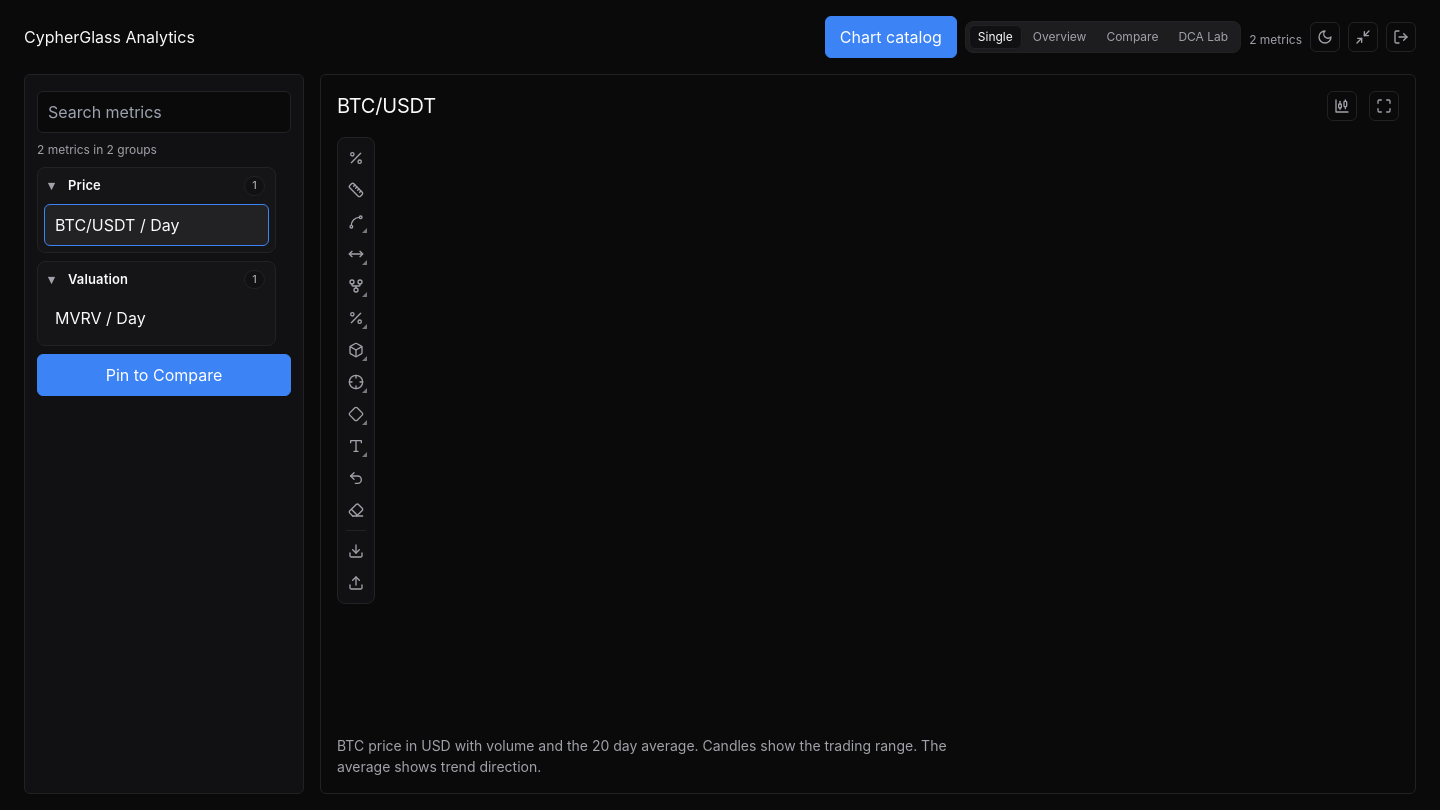
Scenario: Dashboard QFChart integration › price hero defaults to candles with a line-chart toggle
The width and height of the screenshot is (1440, 810).
Step 1. Click the button named "Switch to line chart" → (1342, 106), box top-left (1327, 91), bottom-right (1357, 121)
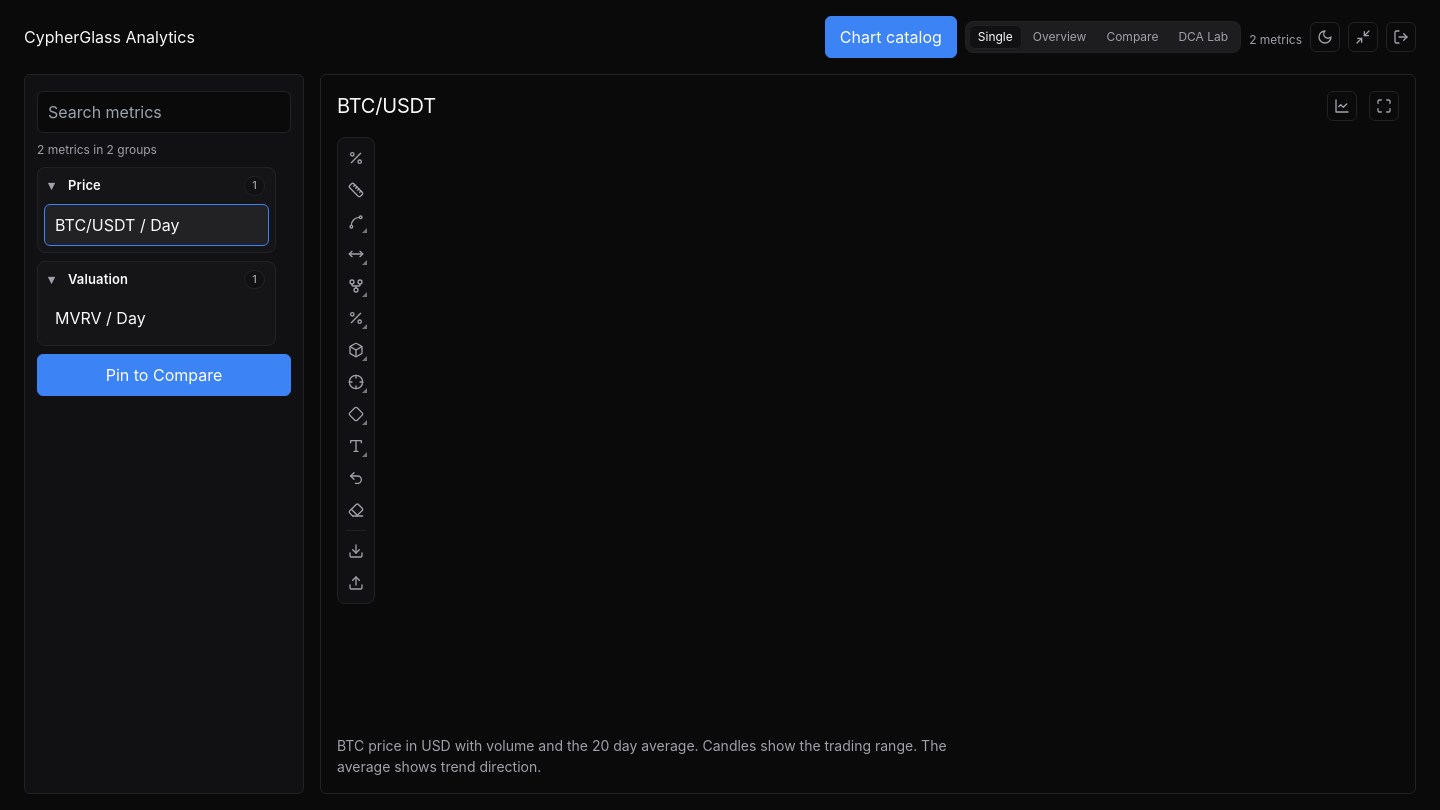
Check: the button named "Switch to candlestick chart" is shown, box top-left (1327, 91), bottom-right (1357, 121)
